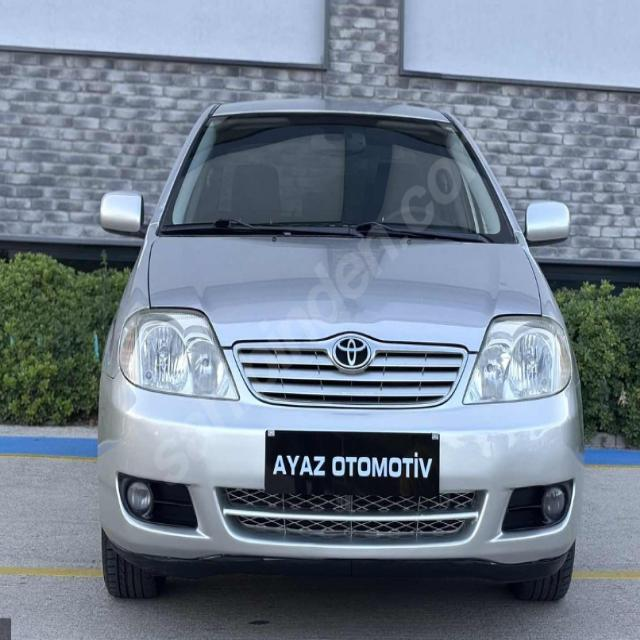toyota: (331, 332, 377, 372)
